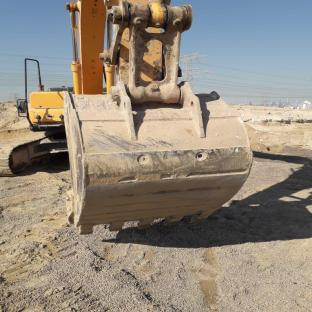ExcavationMachinery: (12, 1, 255, 229)
